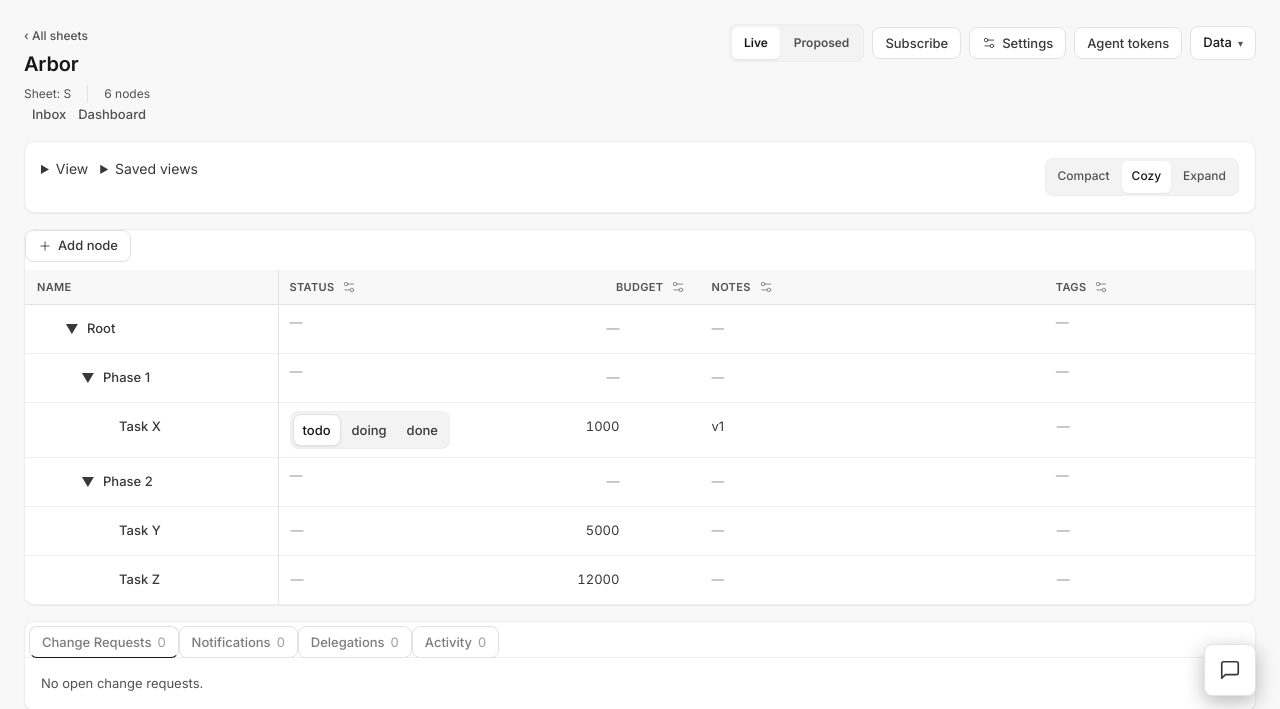
Test: authoritative Outcome wins over client prediction (WEB_UI-020/-021/-086) › a non-owner (can_edit=false) cell edit now stages a DRAFT, never an instant executeAction (WEB_UI-086, draft flow)
Expected: the table with test id "tree-table" is shown, [25,270,1255,604]
Step 1. Click the element with test id "cell" showing "1000" → click(603, 426), box [586,418,619,434]
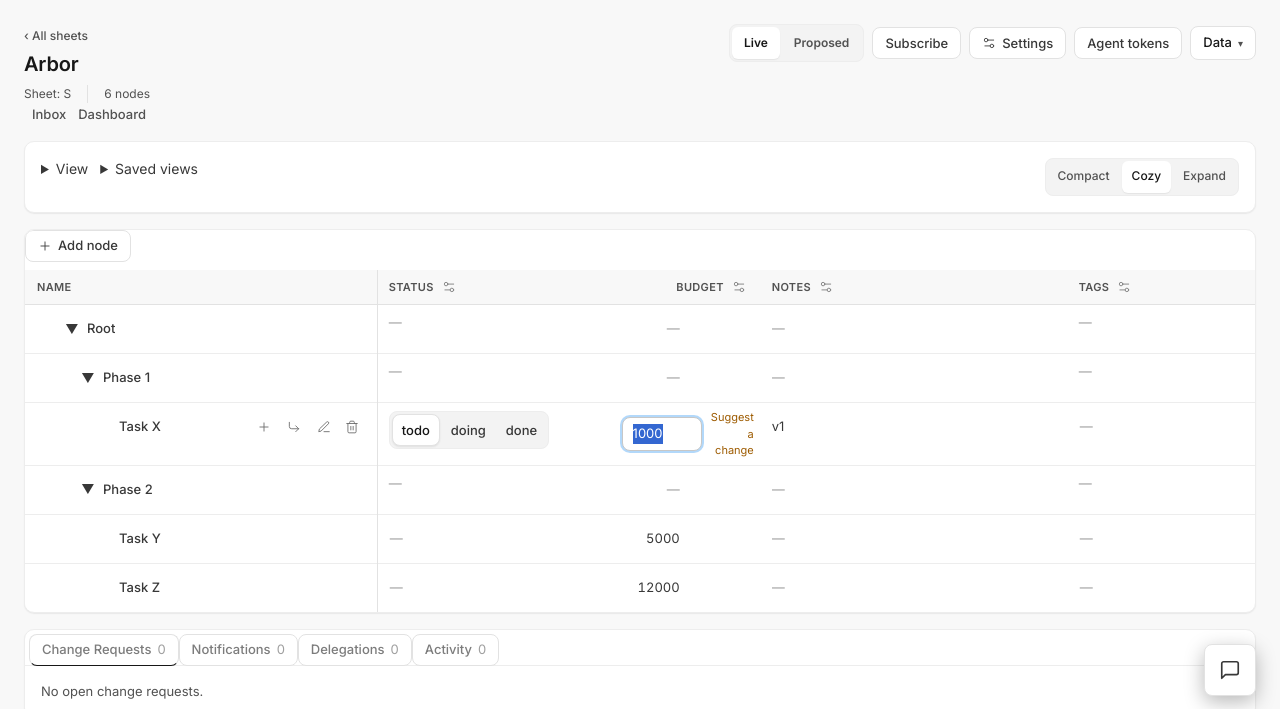
Step 2. Replace the text in the field with test id "cell-input" with "777" → (662, 434), box [622,417,702,450]
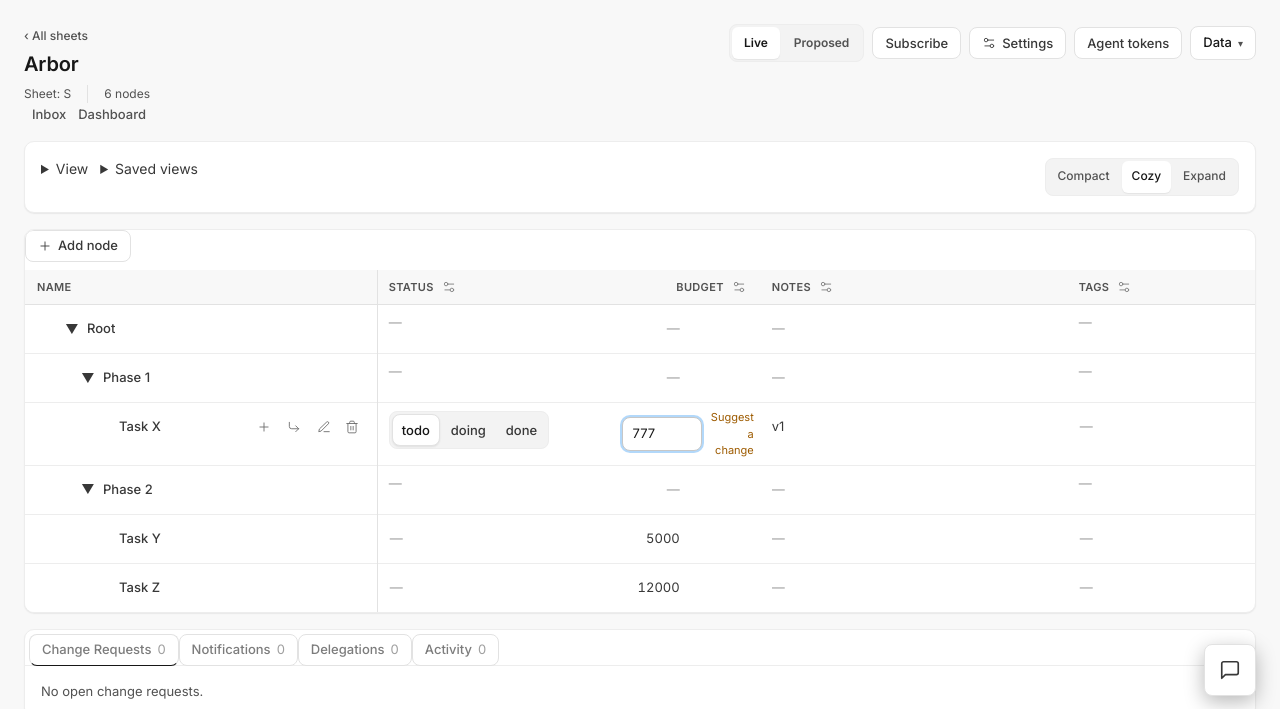
Step 3. Leave the field with test id "cell-input", box [622,417,702,450]
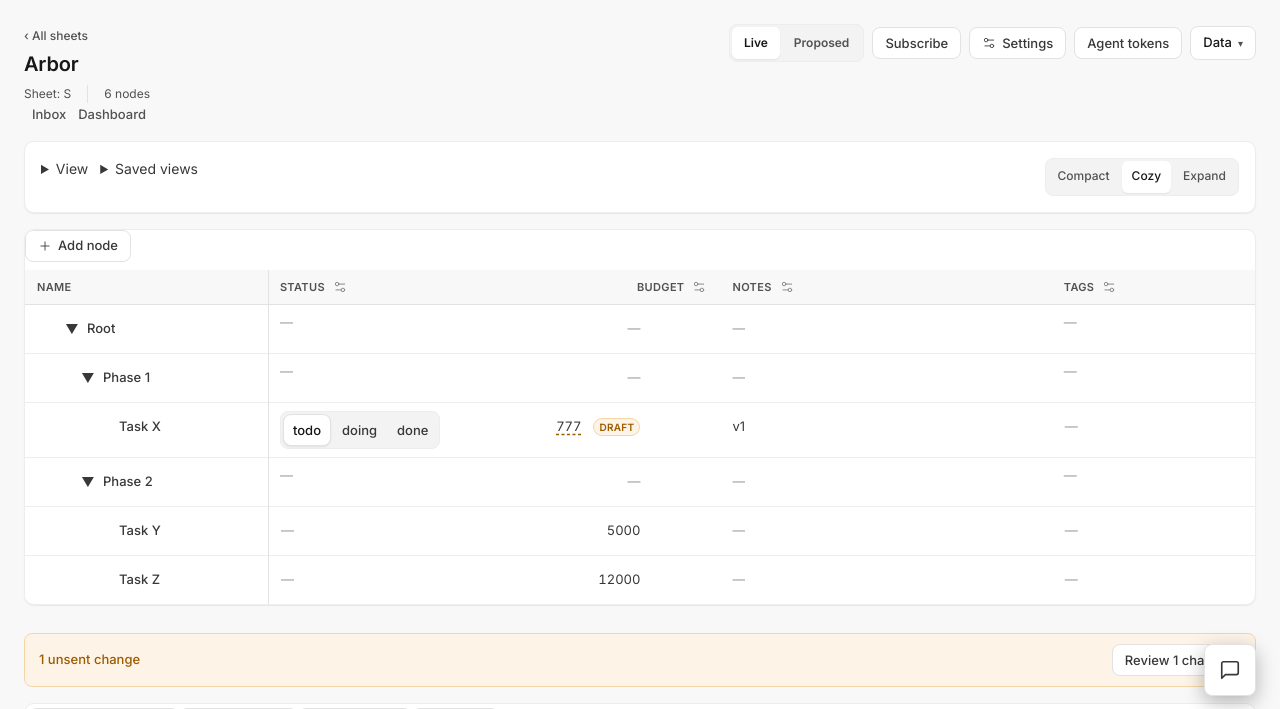
Expected: the element with test id "cell" shows "777", [556,418,582,434]
